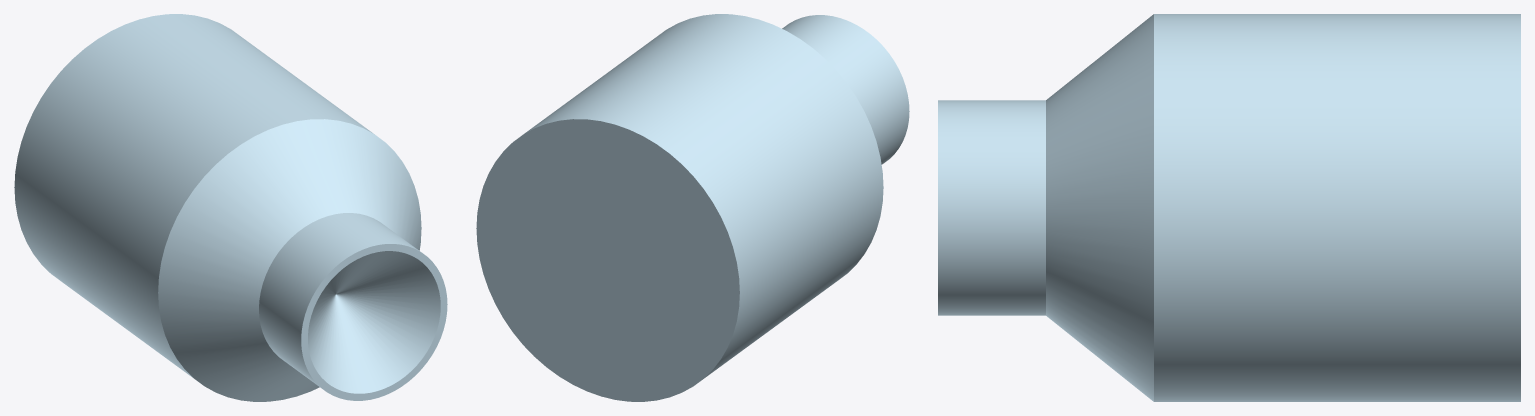
File: teal_cylinder.gltf
The picture shows the model from 3 angles, left to right: view 1: azimuth 30°, elevation 25°; view 2: azimuth 150°, elevation 25°; view 3: azimuth 270°, elevation 25°; orthographic projection. The views are drawn at different scales.
Parts seen in each view (by area): view 1: teal_cylinder; view 2: teal_cylinder; view 3: teal_cylinder.
Part boxes in pixels (<box>): teal_cylinder: <box>14,14,447,401</box>; teal_cylinder: <box>476,14,909,401</box>; teal_cylinder: <box>938,14,1520,401</box>.
Bounding box in the file's own units: 0.09 × 0.0899 × 0.135.
